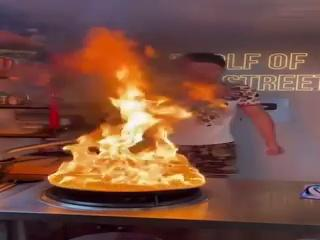Fire: (28, 52, 207, 194)
